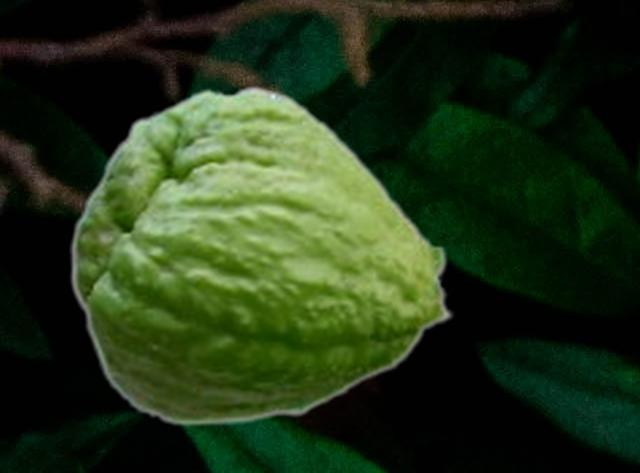sayote: (69, 84, 455, 427)
